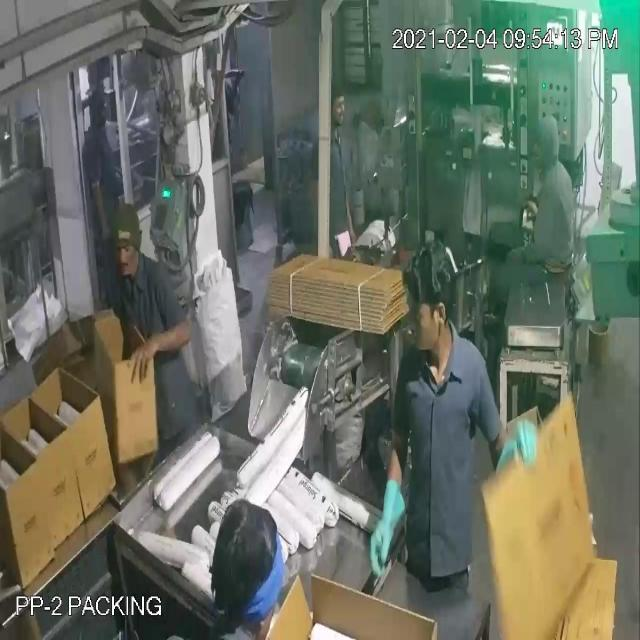No_Gloves: (28, 63, 389, 537)
